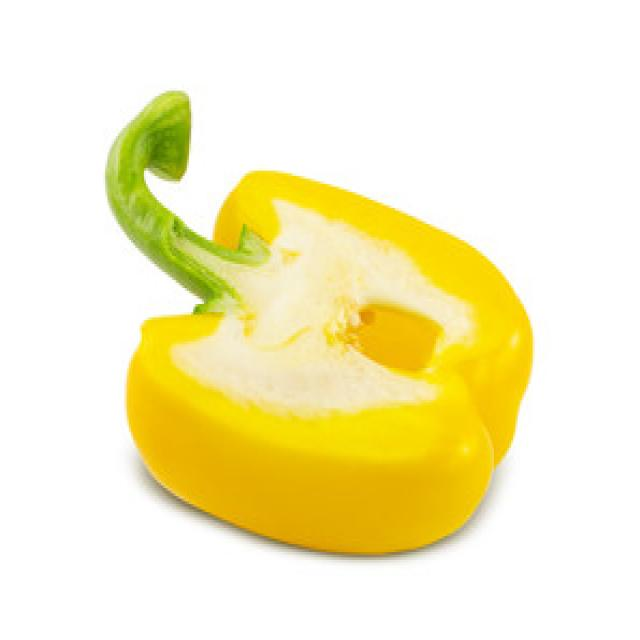Bell Pepper: (106, 78, 536, 545)
